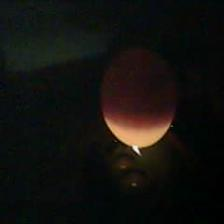fertile: (97, 43, 183, 151)
